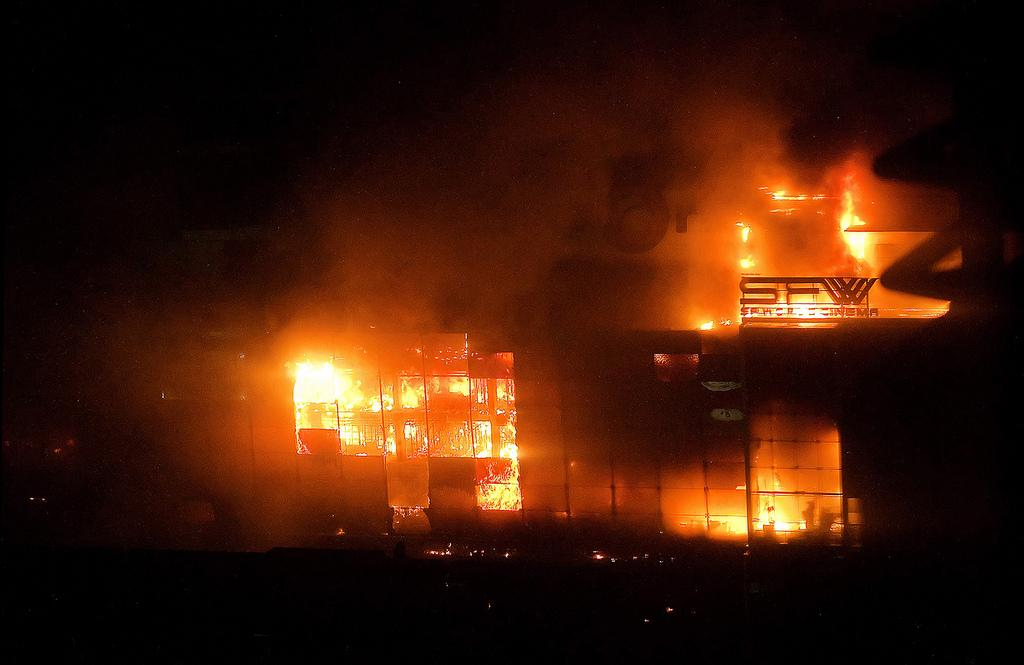fire: (292, 357, 360, 403), (758, 478, 795, 538), (840, 202, 877, 260), (735, 223, 765, 270), (783, 287, 828, 317), (708, 513, 752, 538)
